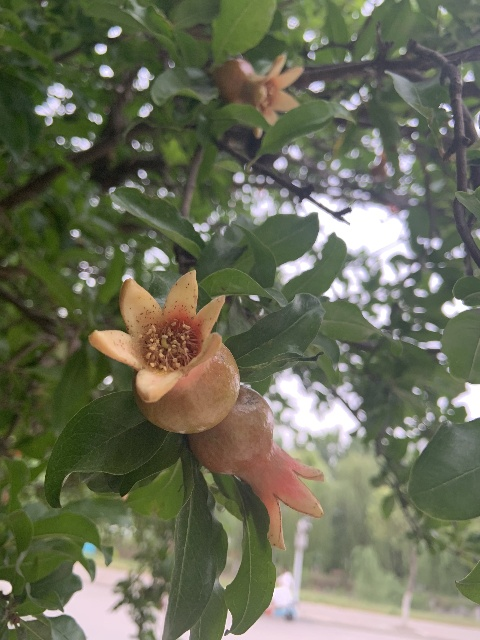early-fruit: (88, 267, 238, 433), (189, 384, 325, 548), (213, 53, 303, 134)
